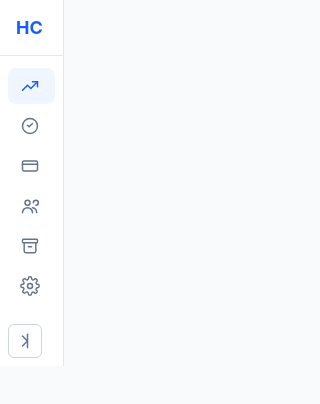
Test: Sidebar › в узком режиме flyout, открытый по hover, закрывается, когда курсор уходит в сторону
The width and height of the screenshot is (320, 404).
Hover over the button named "Inventory" at (32, 246), box x1=8 y1=228 x2=55 y2=264
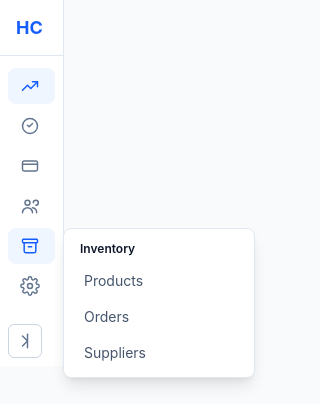
Expected: the button named "Inventory" is expanded
Move the pointer off the button named "Inventory", box x1=8 y1=228 x2=55 y2=264
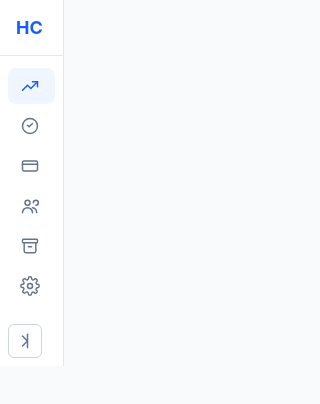
Expected: the button named "Inventory" is collapsed, x1=8 y1=228 x2=55 y2=264
